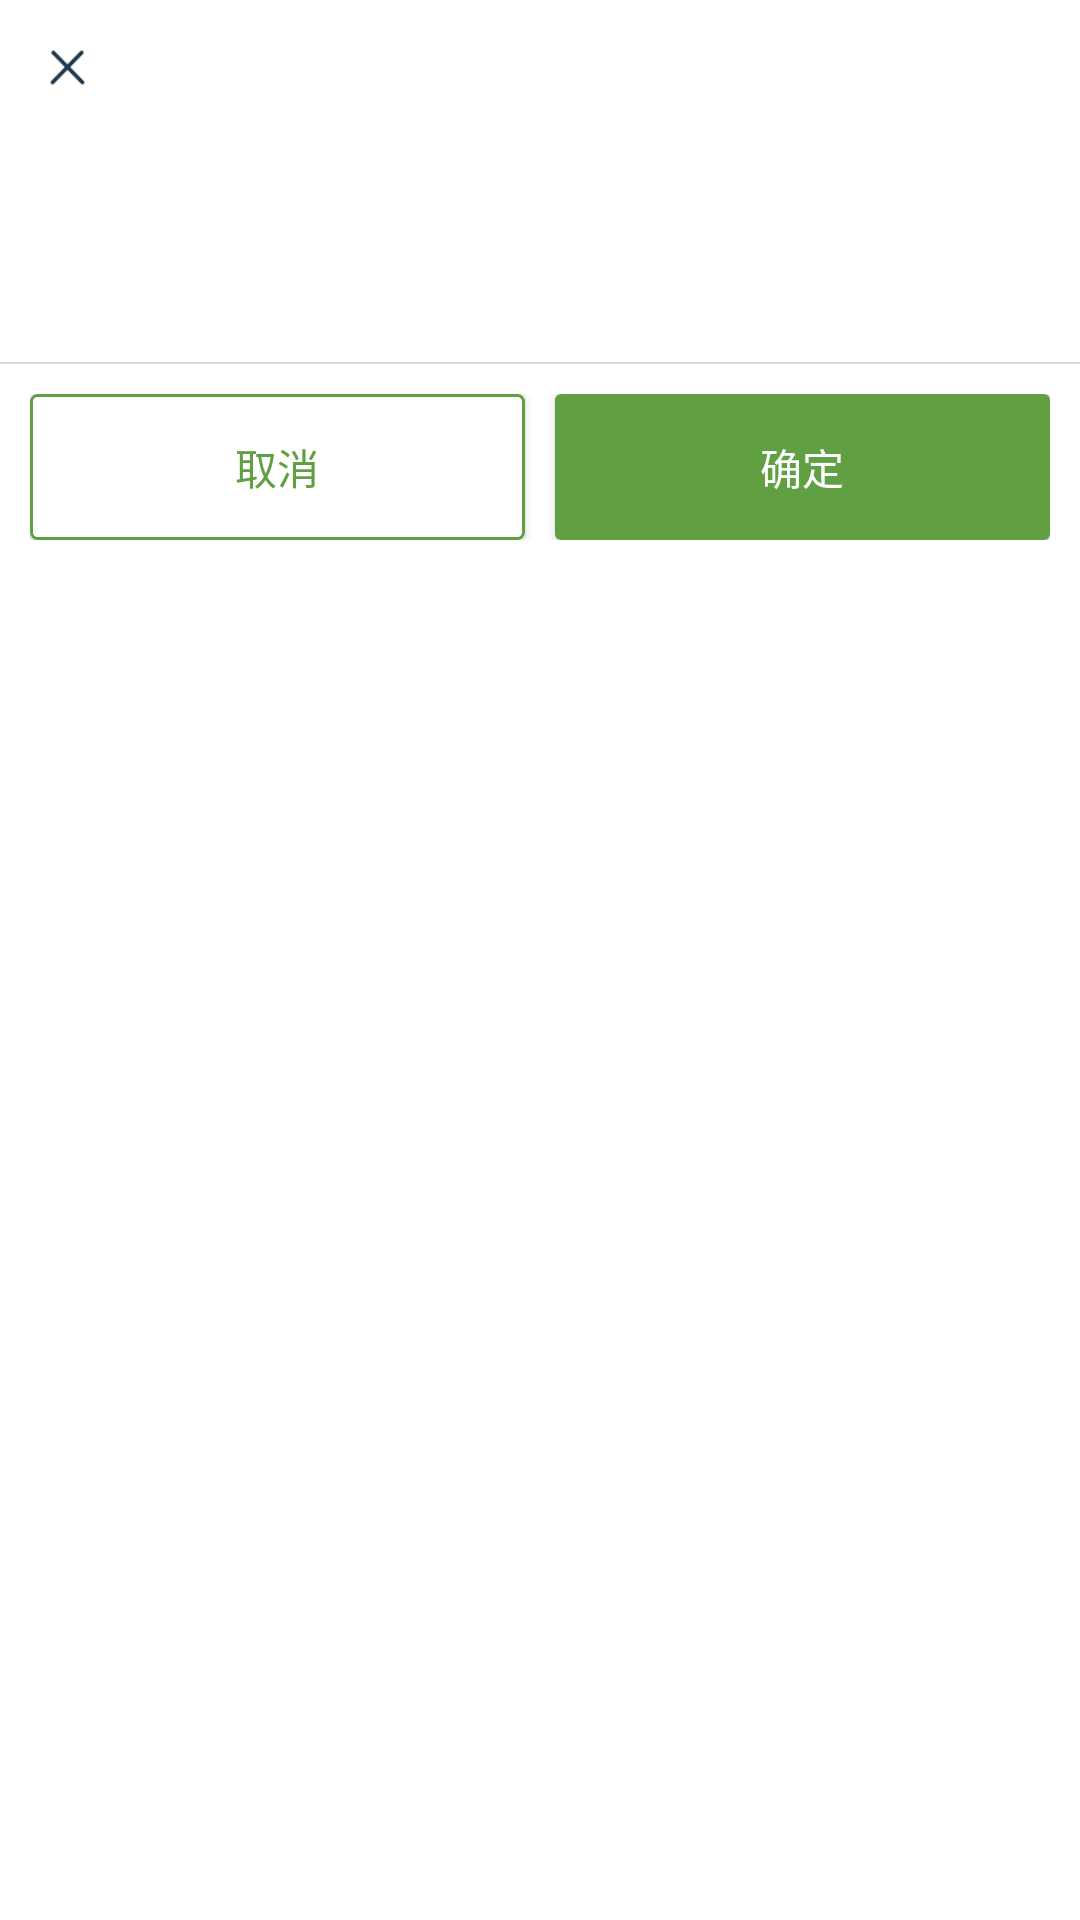

Point at icon controls on the screen. Image size 1080px×1920px, points as point (x, y).
close: point (67, 67)
